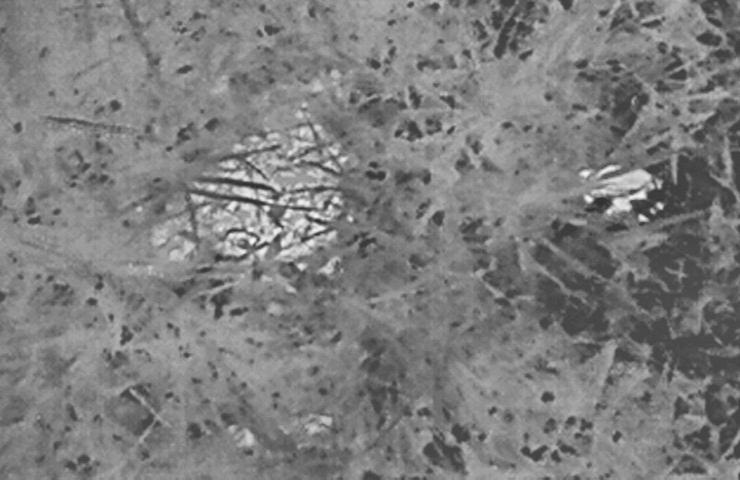landmines: (154, 110, 368, 291)
